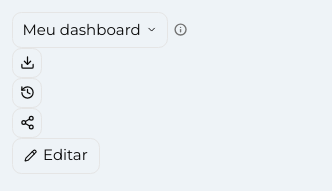
Controles do cabeçalho do dashboard — clicáveis e acessíveis › (c) abrir o seletor expõe estado aberto (aria-expanded + data-state) e o chevron não depende só de cor
Click the button "Meu dashboard" at (90, 30), box [12,12,168,48]
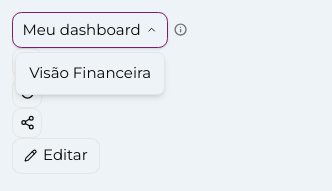
Expected: the menu is shown, [15,52,165,95]
